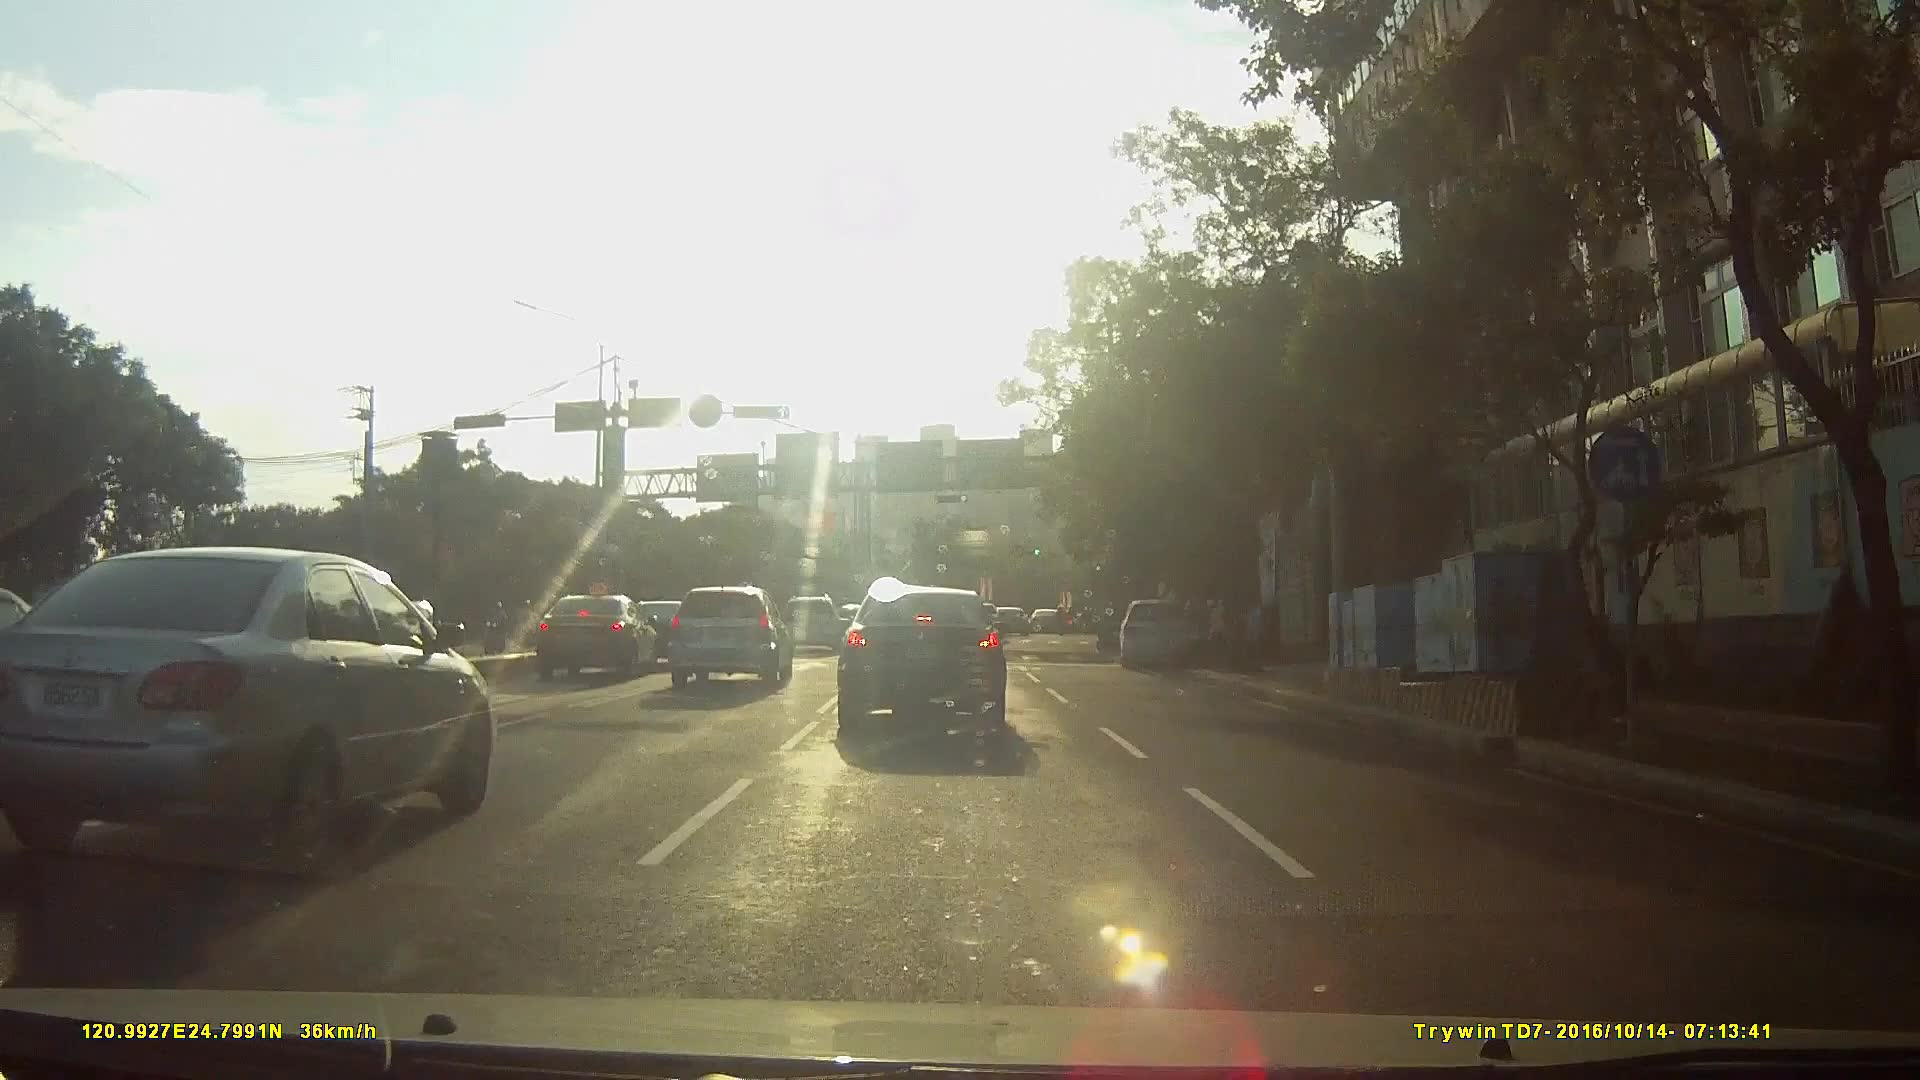pedestrian: (1203, 600, 1226, 662)
rider: (477, 596, 516, 659)
vehicle: (1, 544, 512, 889), (827, 602, 1023, 770), (661, 586, 792, 691), (512, 594, 647, 687), (1123, 598, 1205, 674), (612, 600, 689, 667), (777, 597, 846, 659), (992, 606, 1031, 638), (1027, 608, 1069, 636)
